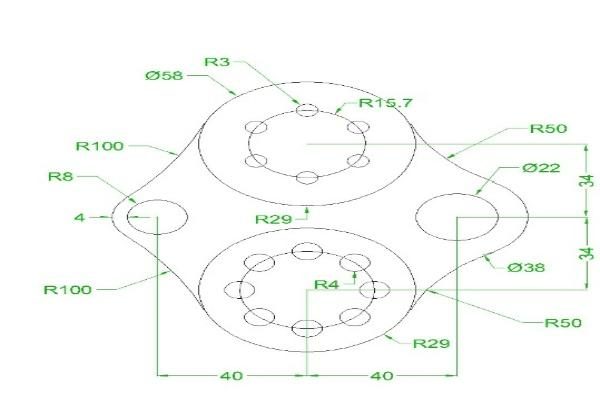dimensions: (68, 127, 130, 158), (38, 275, 99, 304), (356, 94, 417, 114), (139, 66, 192, 88), (536, 312, 588, 334), (248, 209, 300, 230), (518, 155, 564, 178), (195, 46, 237, 71), (409, 333, 455, 355), (526, 117, 572, 138), (505, 259, 554, 277), (212, 364, 246, 388), (66, 203, 90, 234), (308, 276, 345, 296), (572, 241, 600, 267), (575, 166, 598, 196), (45, 168, 76, 186), (367, 368, 398, 385)
